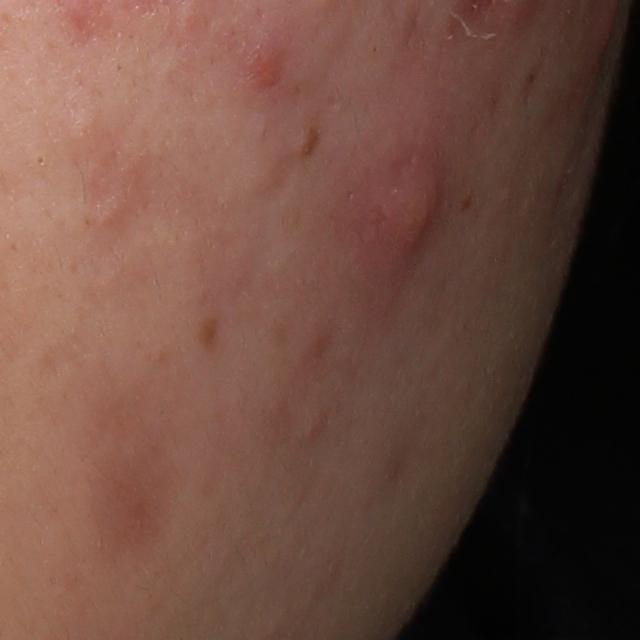comedo: (65, 108, 105, 142)
nodule: (366, 145, 468, 290)
papule: (232, 25, 284, 106)
